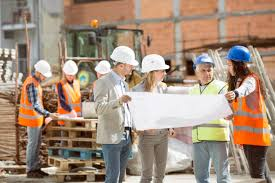hard hat: (110, 46, 139, 66), (140, 54, 170, 73), (224, 46, 254, 63), (32, 60, 53, 78), (193, 53, 217, 68), (61, 60, 79, 75), (95, 60, 111, 74)
high-vis: (231, 72, 272, 146), (191, 80, 229, 142), (20, 76, 44, 126), (58, 77, 81, 118)
